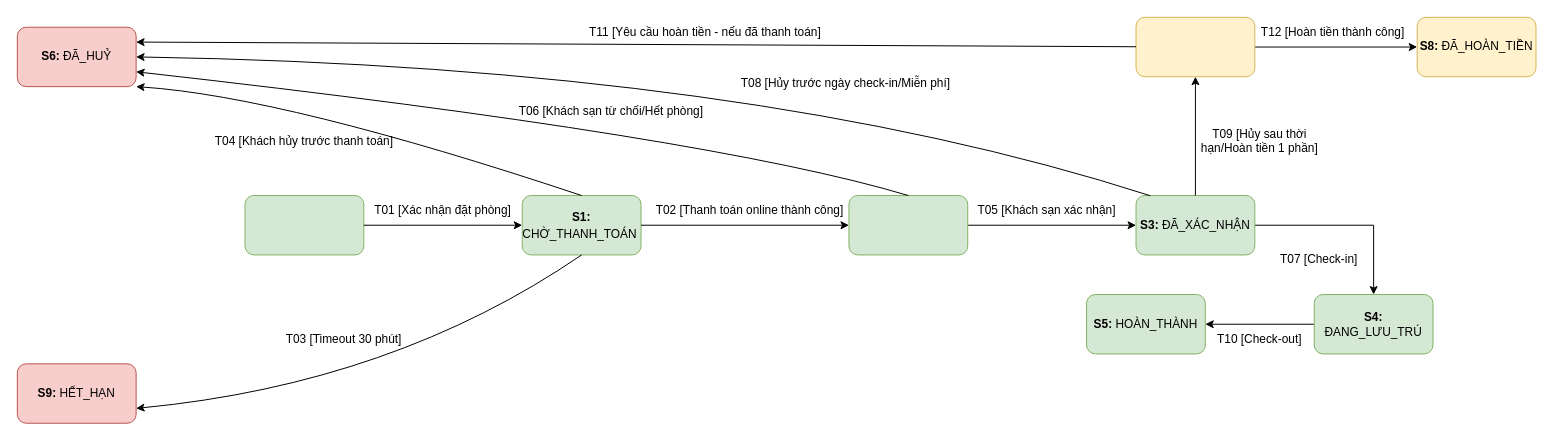
This 1553x441 diagram has some shape labels left out. Each missing label, with the centre of its shape:
"S0: KHỞI TẠO" belongs at (304,225).
"S2: ĐÃ_THANH_TOÁN" belongs at (908,225).
"S7: CHỜ_HOÀN_TIỀN" belongs at (1195,46).
